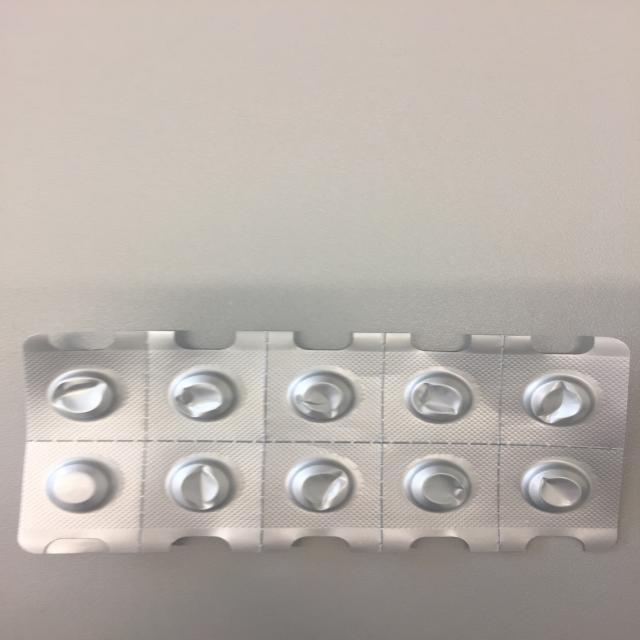Empty: (277, 454, 365, 515), (396, 456, 482, 518), (39, 366, 128, 424), (280, 368, 366, 427), (159, 453, 238, 516), (515, 457, 600, 514), (397, 369, 481, 426), (519, 369, 597, 428), (161, 368, 244, 422)
Pill: (43, 458, 120, 517)
